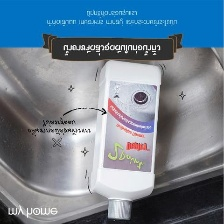cleaning_solution: (88, 57, 164, 221)
